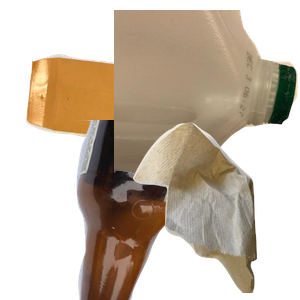glass: (60, 120, 300, 300)
paper: (23, 51, 206, 189)
plastic: (114, 10, 300, 179)
trash: (131, 120, 300, 300)
